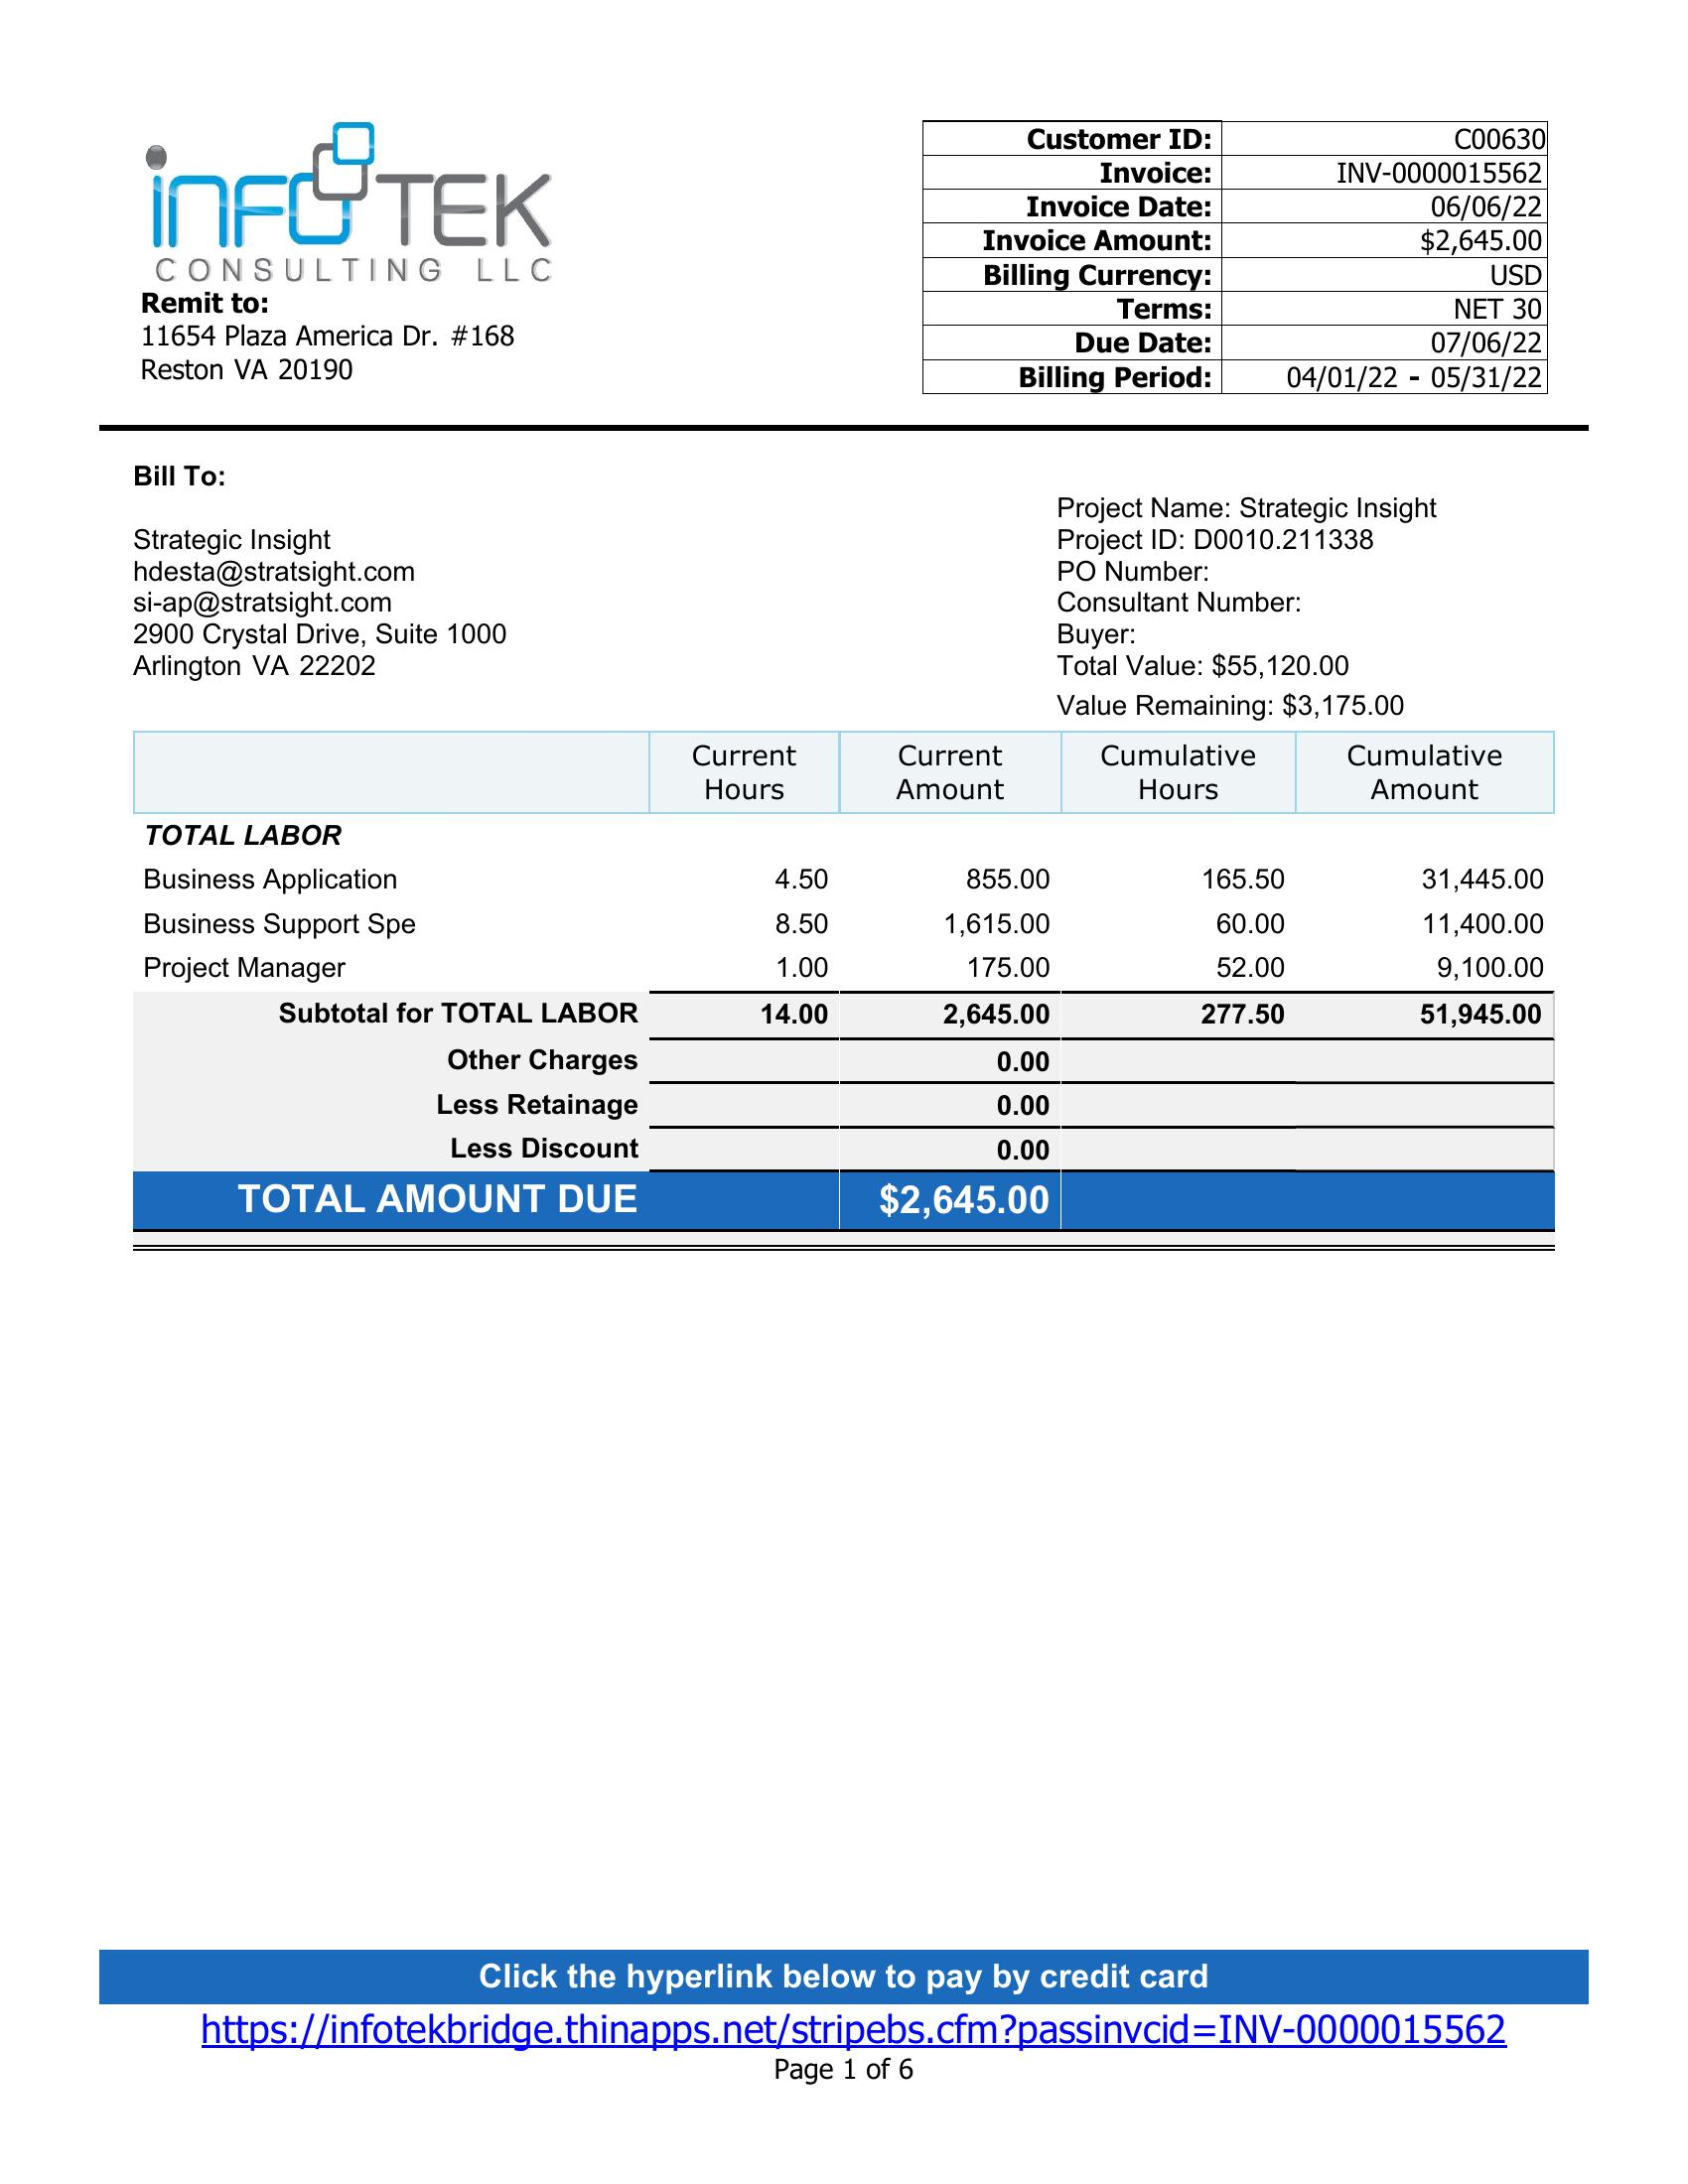table: (128, 727, 1571, 1262)
